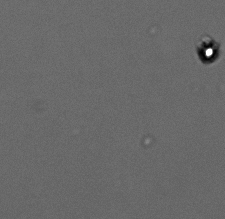Living Cell: (198, 40, 218, 63)
